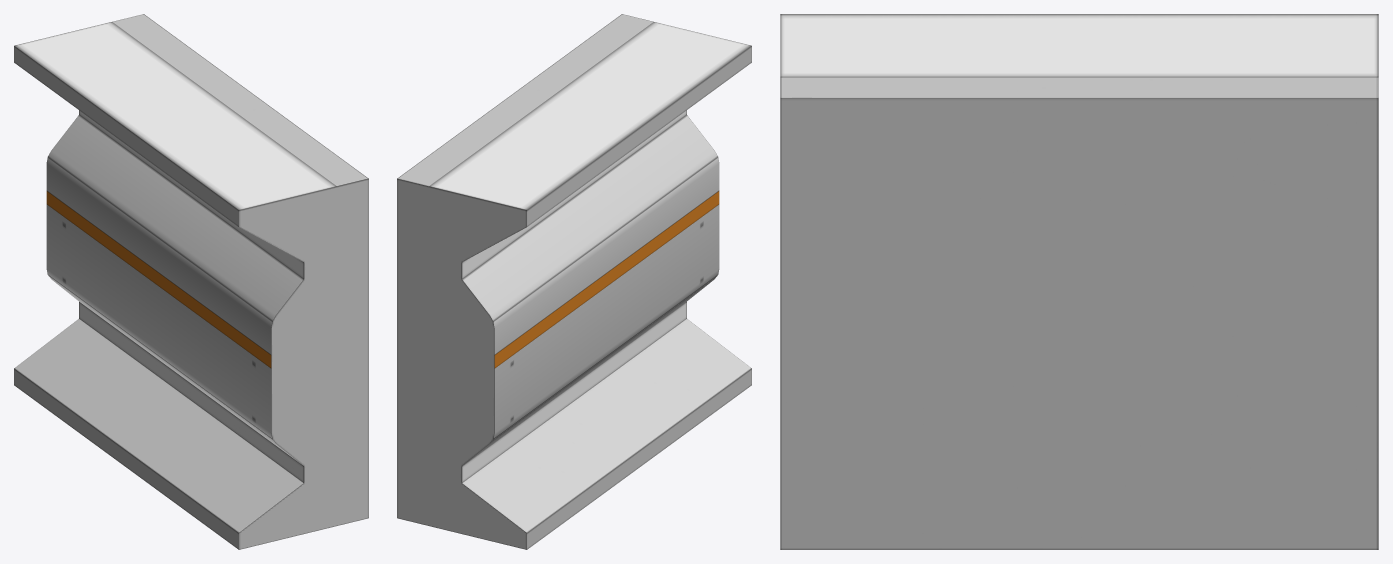
The model's file is Wall_Normal_01.FBX.
The picture shows the model from 3 angles, left to right: view 1: azimuth 30°, elevation 25°; view 2: azimuth 150°, elevation 25°; view 3: azimuth 270°, elevation 25°; orthographic projection. The views are drawn at different scales.
Parts seen in each view (by area): view 1: Wall_Normal_01; view 2: Wall_Normal_01; view 3: Wall_Normal_01.
Part boxes in pixels (bbox=[...]): Wall_Normal_01: bbox=[14, 14, 368, 549]; Wall_Normal_01: bbox=[397, 14, 751, 549]; Wall_Normal_01: bbox=[780, 14, 1378, 549].
Size of the model in its own units: 2 by 5 by 6.
